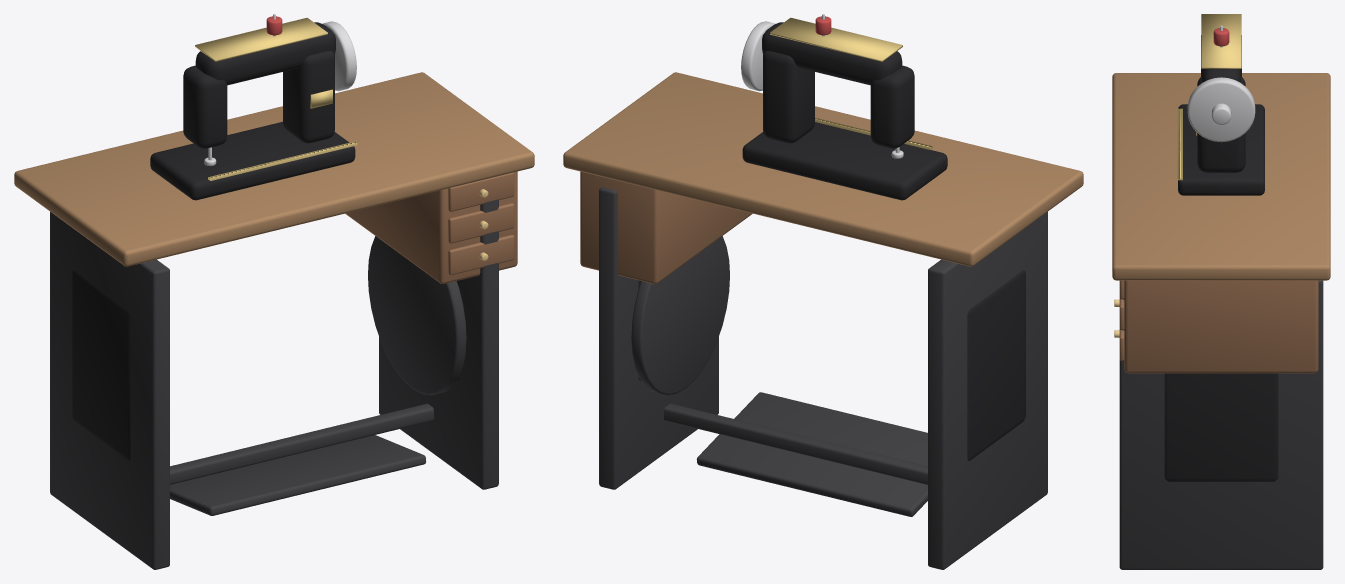
File: v2_sewing_machine.fbx
3 views of the same model, side by side, from view 1: azimuth 30°, elevation 25°; view 2: azimuth 150°, elevation 25°; view 3: azimuth 270°, elevation 25° (orthographic). The views are drawn at different scales.
Parts seen in each view (by area): view 1: TableTop, IronSide-1, IronSide1, BeltWheel, Treadle, IronSideHole-1, Bed, DrawerStack, TreadleBar, Pillar, Arm, Head (+6 smaller); view 2: TableTop, IronSide-1, Treadle, IronSide1, BeltWheel, DrawerStack, IronSideHole-1, Bed, TreadleBar, Pillar, Arm, Head (+2 smaller); view 3: TableTop, IronSide1, DrawerStack, IronSideHole1, Bed, Flywheel, DecalStripe, Pillar, DecalStripe.001, Arm, FlywheelHub.
Part boxes in pixels (box(x1,y1,x2,y2)): TableTop: box(14, 72, 534, 266); IronSide-1: box(50, 212, 169, 569); IronSide1: box(379, 199, 498, 489); BeltWheel: box(368, 236, 466, 395); Treadle: box(170, 435, 426, 515); IronSideHole-1: box(72, 270, 130, 460); Bed: box(150, 121, 355, 200); DrawerStack: box(345, 171, 517, 283); TreadleBar: box(170, 403, 433, 484); Pillar: box(283, 51, 334, 143); Arm: box(195, 22, 335, 85); Head: box(183, 65, 227, 148); TableTop: box(563, 72, 1083, 266); IronSide-1: box(928, 212, 1047, 569); Treadle: box(696, 392, 927, 516); IronSide1: box(599, 187, 718, 489); BeltWheel: box(631, 236, 729, 395); DrawerStack: box(580, 171, 752, 283); IronSideHole-1: box(967, 270, 1025, 460); Bed: box(742, 122, 947, 200); TreadleBar: box(664, 403, 927, 484); Pillar: box(763, 51, 814, 143); Arm: box(762, 22, 902, 85); Head: box(870, 65, 914, 148); TableTop: box(1112, 73, 1330, 280); IronSide1: box(1119, 280, 1323, 569); DrawerStack: box(1124, 280, 1318, 373); IronSideHole1: box(1164, 373, 1278, 481); Bed: box(1178, 104, 1264, 195); Flywheel: box(1187, 77, 1255, 142); DecalStripe: box(1201, 14, 1241, 68); Pillar: box(1197, 76, 1245, 172); DecalStripe.001: box(1177, 108, 1182, 180); Arm: box(1202, 68, 1240, 82); FlywheelHub: box(1211, 103, 1231, 124).
Size of the model in its own units: 0.95 by 1.05 by 0.45.
